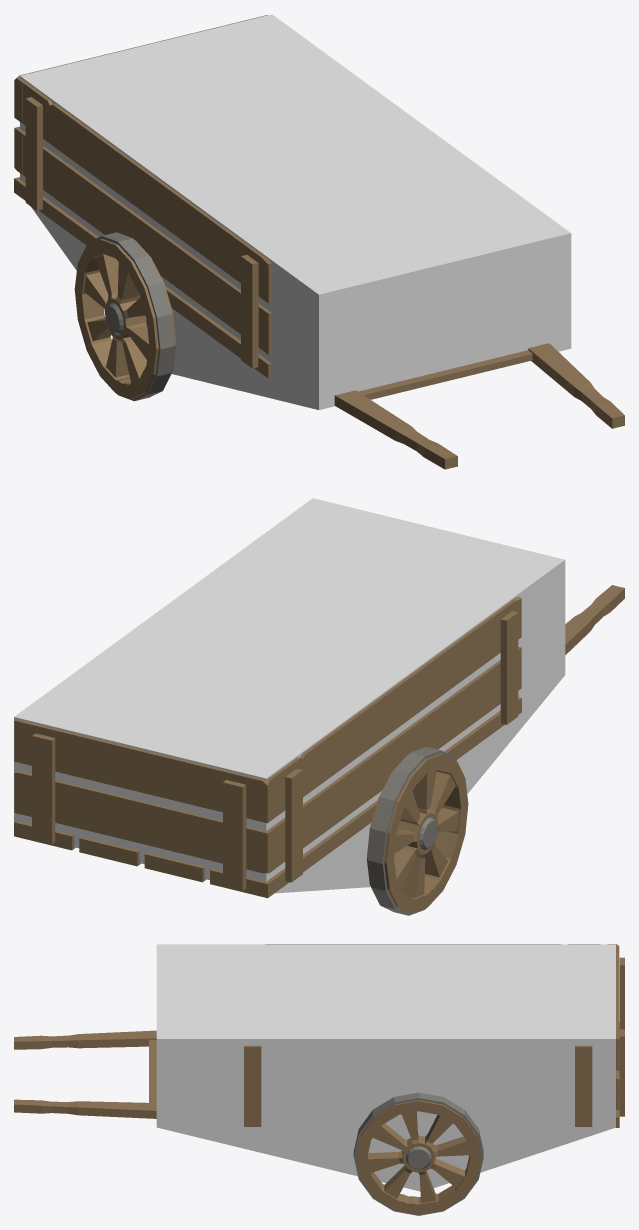
The model's file is CartWithCollider.fbx.
3 views of the same model, one above another, from view 1: azimuth 30°, elevation 25°; view 2: azimuth 150°, elevation 25°; view 3: azimuth 270°, elevation 25° (orthographic). The views are drawn at different scales.
Parts seen in each view (by area): view 1: Cube.008, Cylinder.001; view 2: Cube.008, Cylinder.001; view 3: Cube.008, Cylinder.001.
Part boxes in pixels (x1,y1,x2,y2): Cube.008: (20, 14, 571, 409); Cylinder.001: (14, 15, 624, 469); Cube.008: (14, 498, 565, 893); Cylinder.001: (14, 585, 624, 915); Cube.008: (156, 944, 615, 1191); Cylinder.001: (14, 944, 624, 1215).
Size of the model in its own units: 253 by 165 by 546.
1 material, 1 textured.
